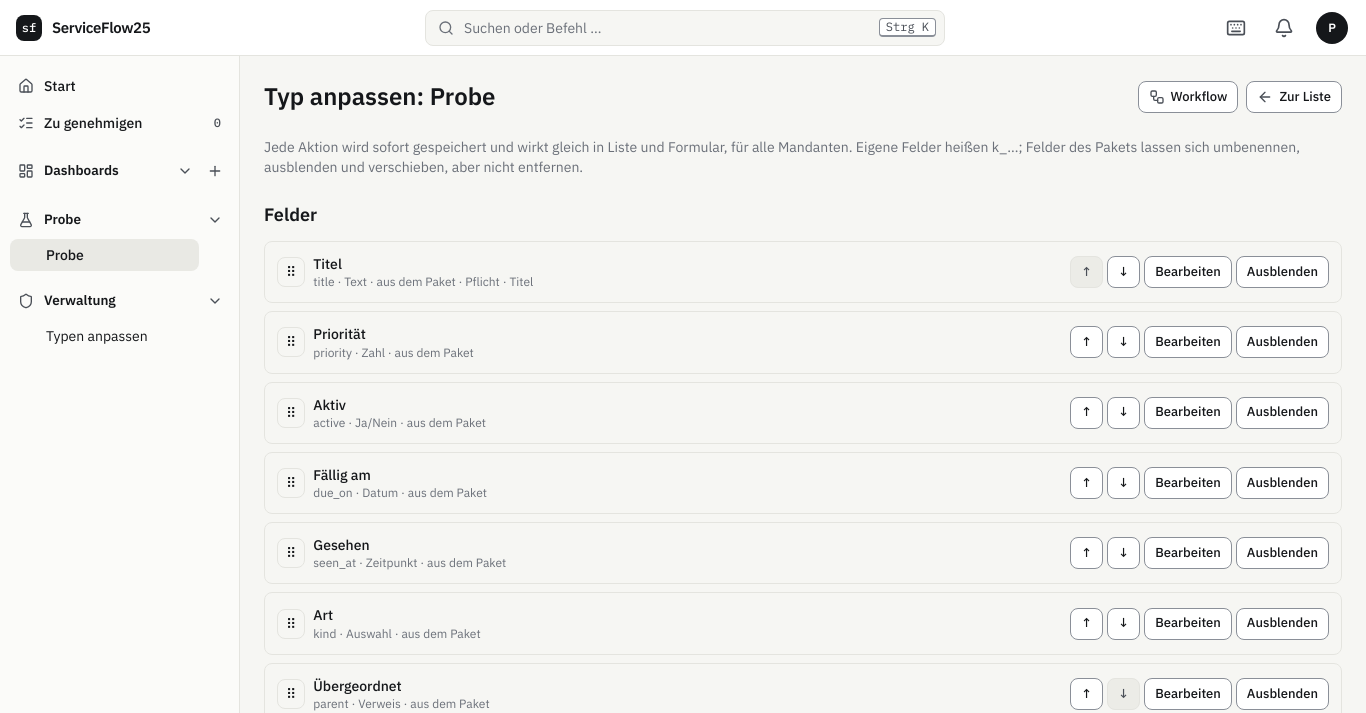
Test: Type editor › hides, moves and takes back, one change each
Expected: the heading "Typ anpassen: Probe" is shown, left=264, top=80, right=496, bottom=112
Click the button with aria-label "„Aktiv“ ausblenden". click: x=1282, y=413
box: left=1236, top=397, right=1329, bottom=429
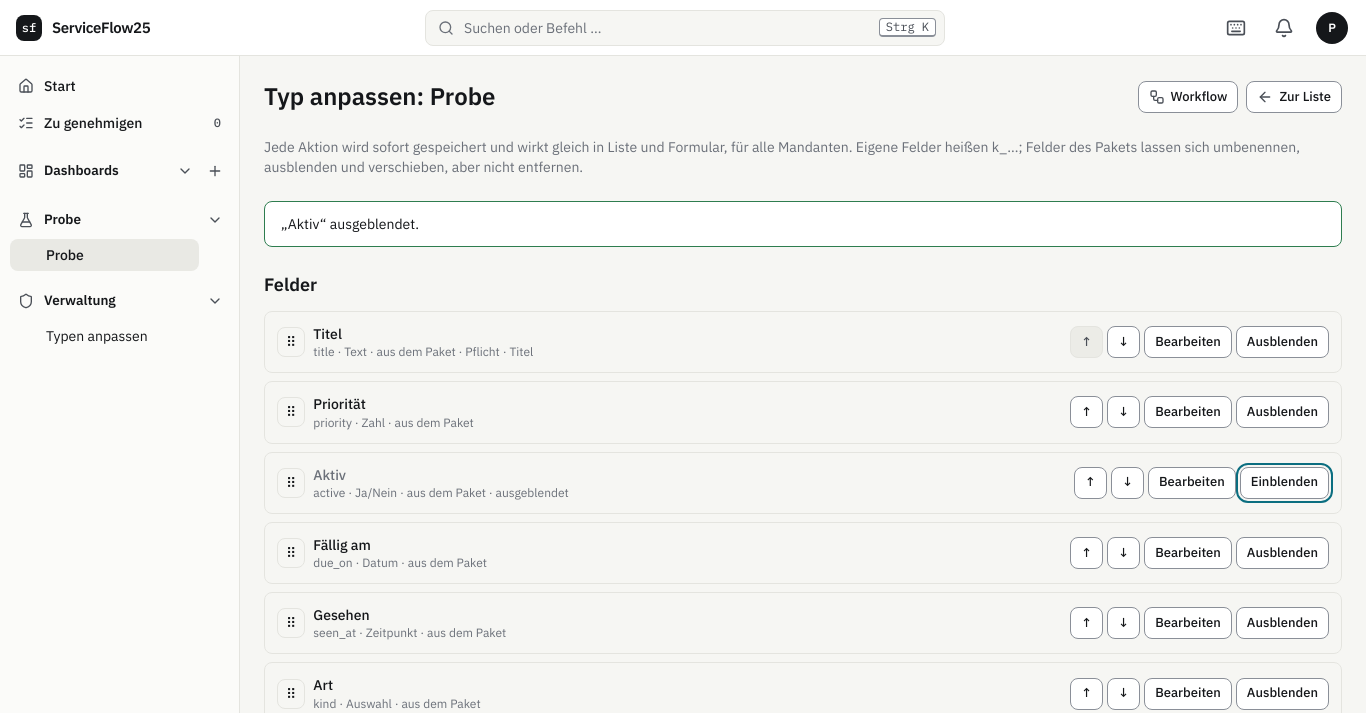
Result: the text "„Aktiv“ ausgeblendet." is shown at left=264, top=201, right=1342, bottom=247
Click the button "↑" in the row of "Datum". click: x=1086, y=553
box: left=1070, top=537, right=1103, bottom=569
(page scrolled)
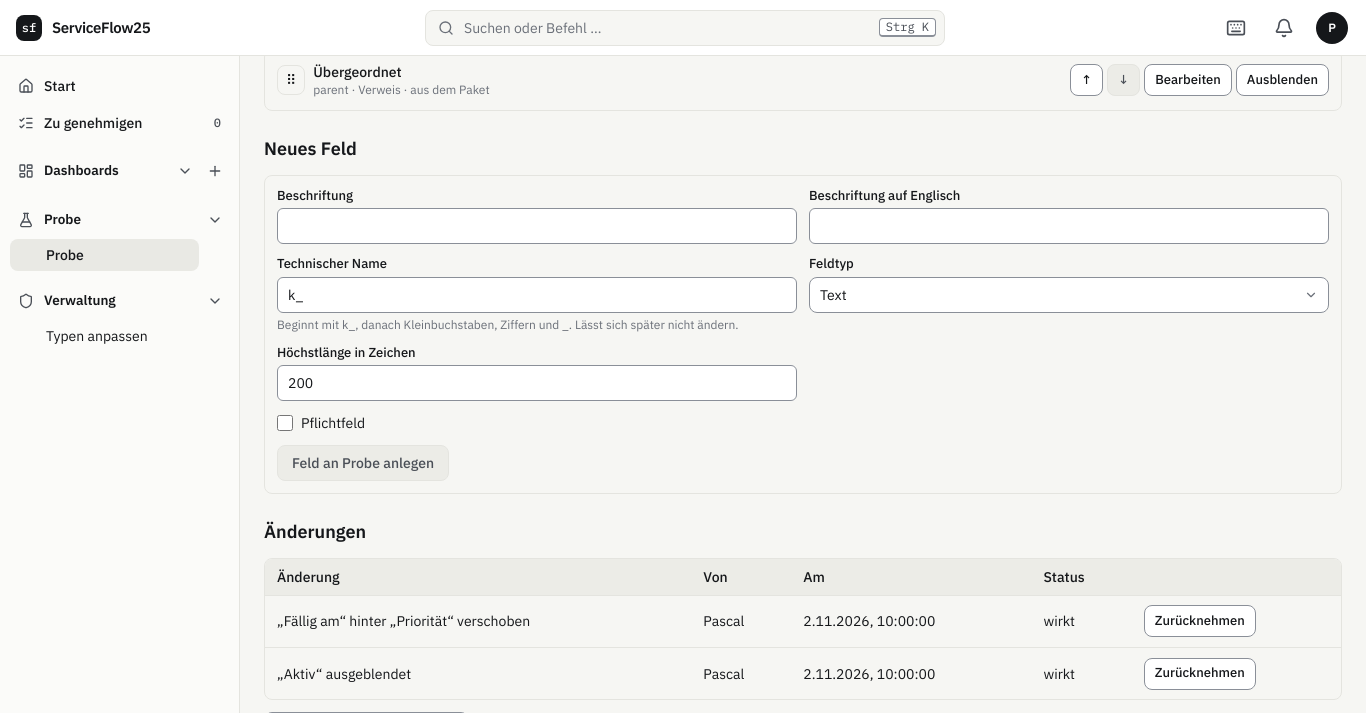
Click the button with aria-label "Zurücknehmen: „Aktiv“ ausgeblendet". click: x=1200, y=674
box: left=1144, top=658, right=1256, bottom=690
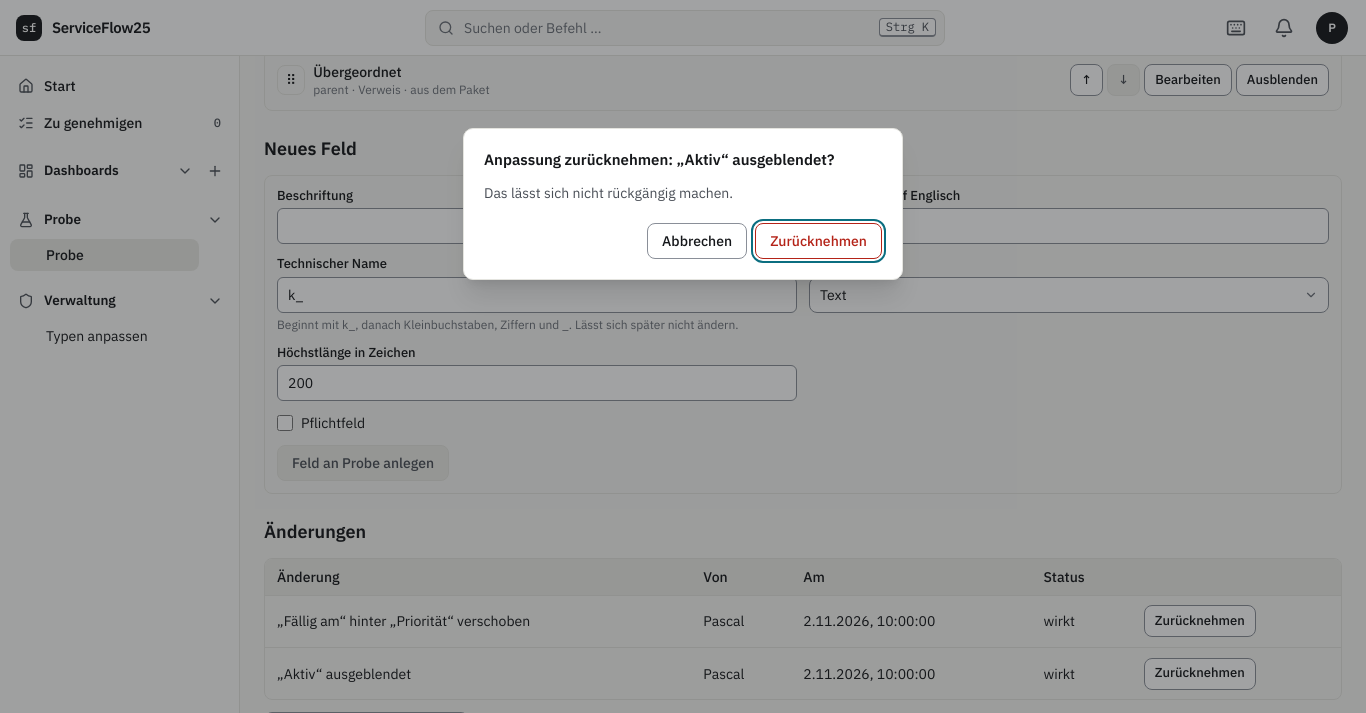
Click the button "Zurücknehmen". click: x=819, y=241
box: left=755, top=223, right=882, bottom=259
(page scrolled)
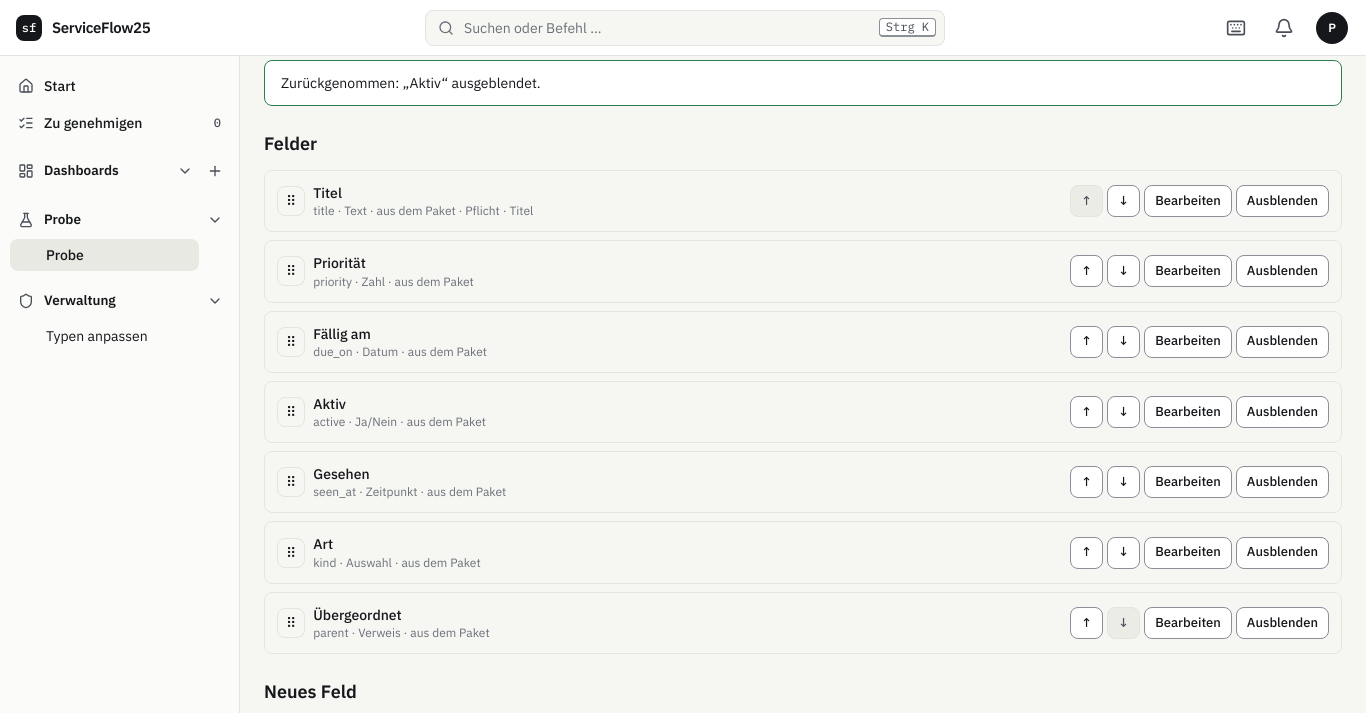
Result: the text "Zurückgenommen: „Aktiv“ ausgeblendet." is shown at left=264, top=60, right=1342, bottom=106
